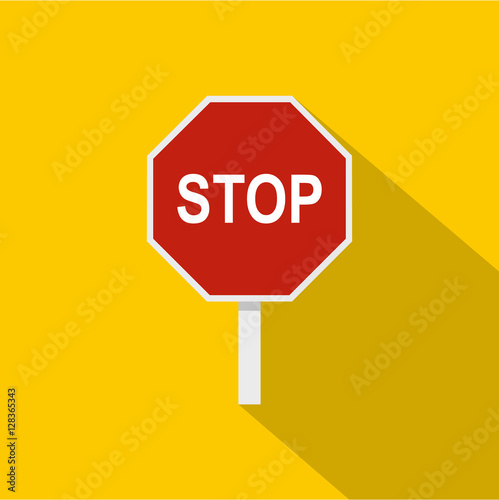StopSign: (147, 96, 354, 304)
